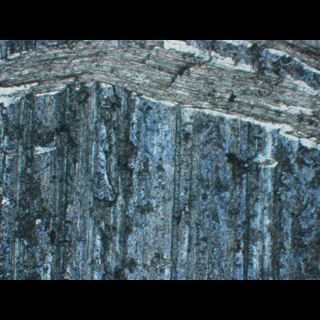d: (0, 40, 319, 157)
